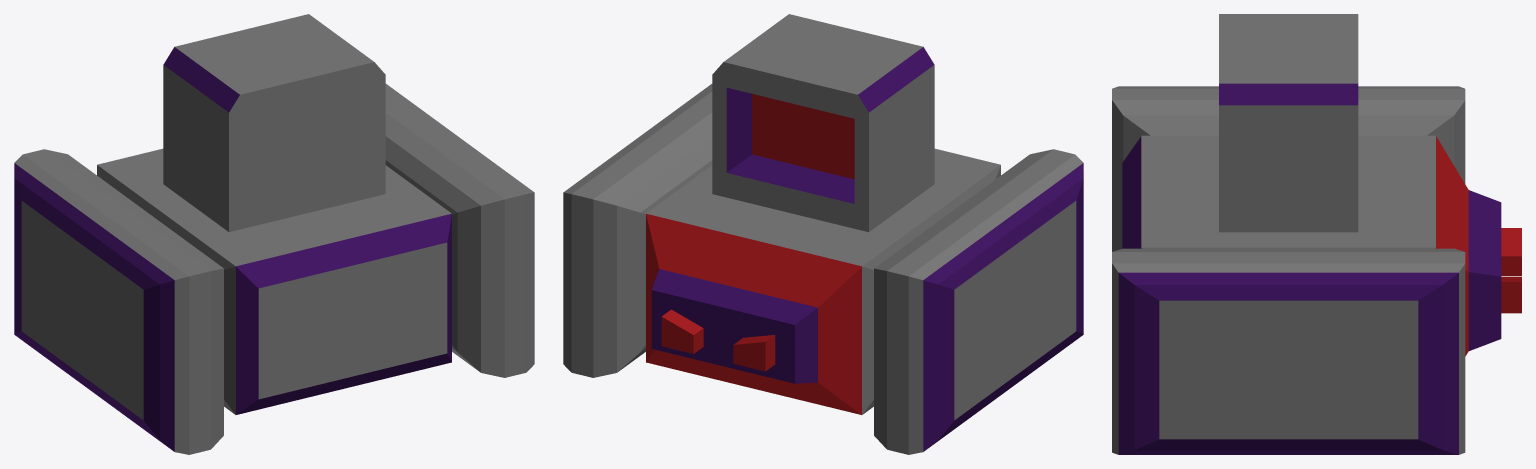
Rendered from PlasmaThrower.fbx.
The picture shows the model from 3 angles, left to right: view 1: azimuth 30°, elevation 25°; view 2: azimuth 150°, elevation 25°; view 3: azimuth 270°, elevation 25°; orthographic projection. The views are drawn at different scales.
Visible parts, largest first — view 1: PlasmaThrower; view 2: PlasmaThrower; view 3: PlasmaThrower.
Boxes of the visible parts, x1,y1,x2,y2 form: PlasmaThrower: (14, 14, 534, 454); PlasmaThrower: (563, 14, 1083, 454); PlasmaThrower: (1112, 14, 1521, 454).
Size of the model in its own units: 319 by 237 by 278.
